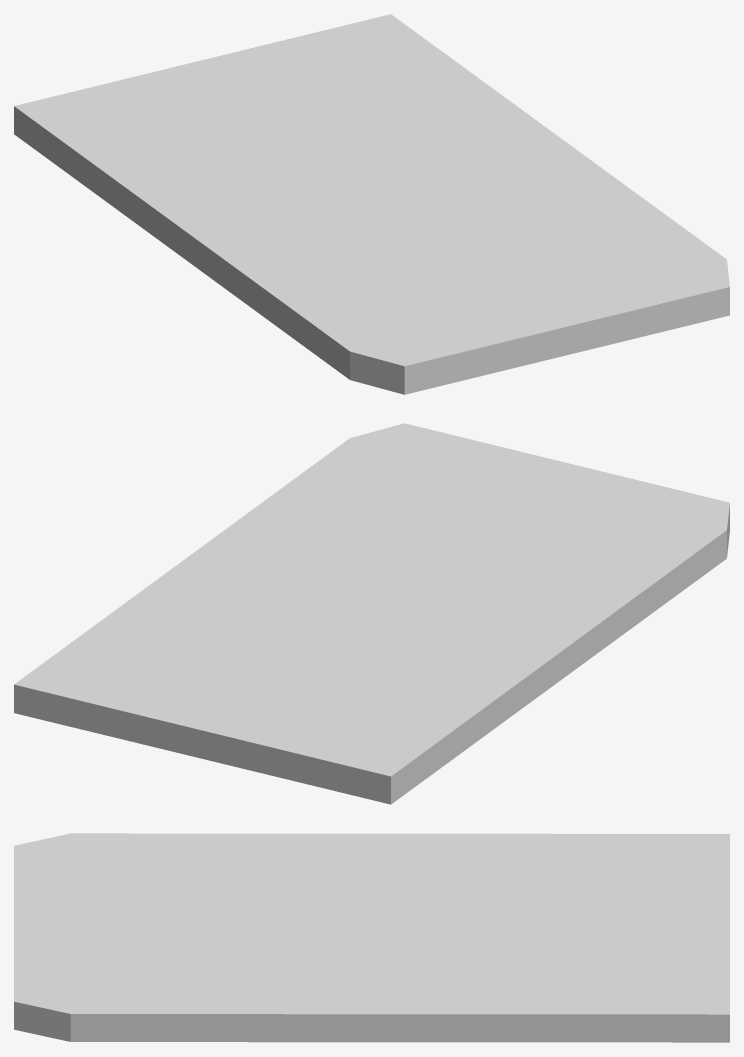
File: Itr_Obj_Toilet_Cap1_01.FBX
3 renders of one model, top to bottom at view 1: azimuth 30°, elevation 25°; view 2: azimuth 150°, elevation 25°; view 3: azimuth 270°, elevation 25°, orthographic.
Visible parts, largest first — view 1: Itr_Obj_Toilet_Cap1_01; view 2: Itr_Obj_Toilet_Cap1_01; view 3: Itr_Obj_Toilet_Cap1_01.
Boxes of the visible parts, x1,y1,x2,y2 form: Itr_Obj_Toilet_Cap1_01: (14, 14, 729, 394); Itr_Obj_Toilet_Cap1_01: (14, 423, 729, 804); Itr_Obj_Toilet_Cap1_01: (14, 833, 729, 1042).
Bounding box in the file's own units: 10.67 × 0.7867 × 17.88.
